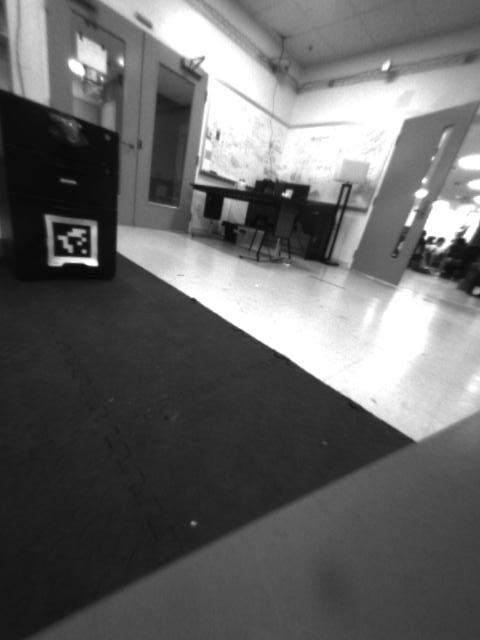door_handle: (117, 137, 138, 153)
drawer: (34, 111, 89, 158)
